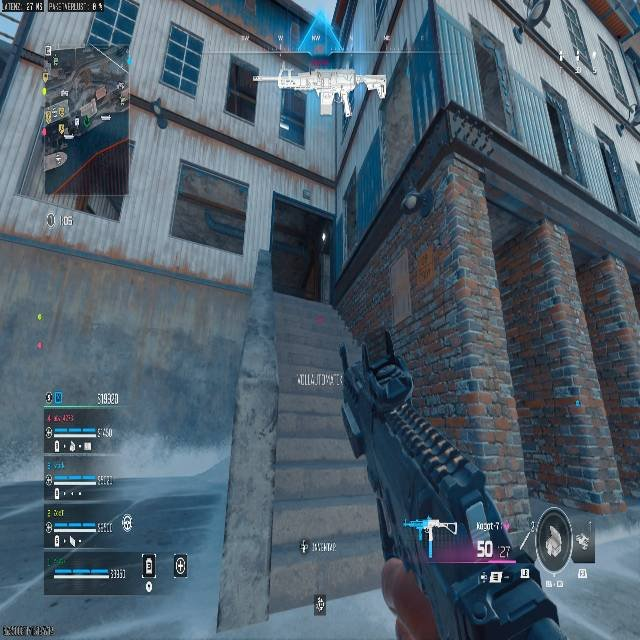player: (224, 60, 258, 121)
